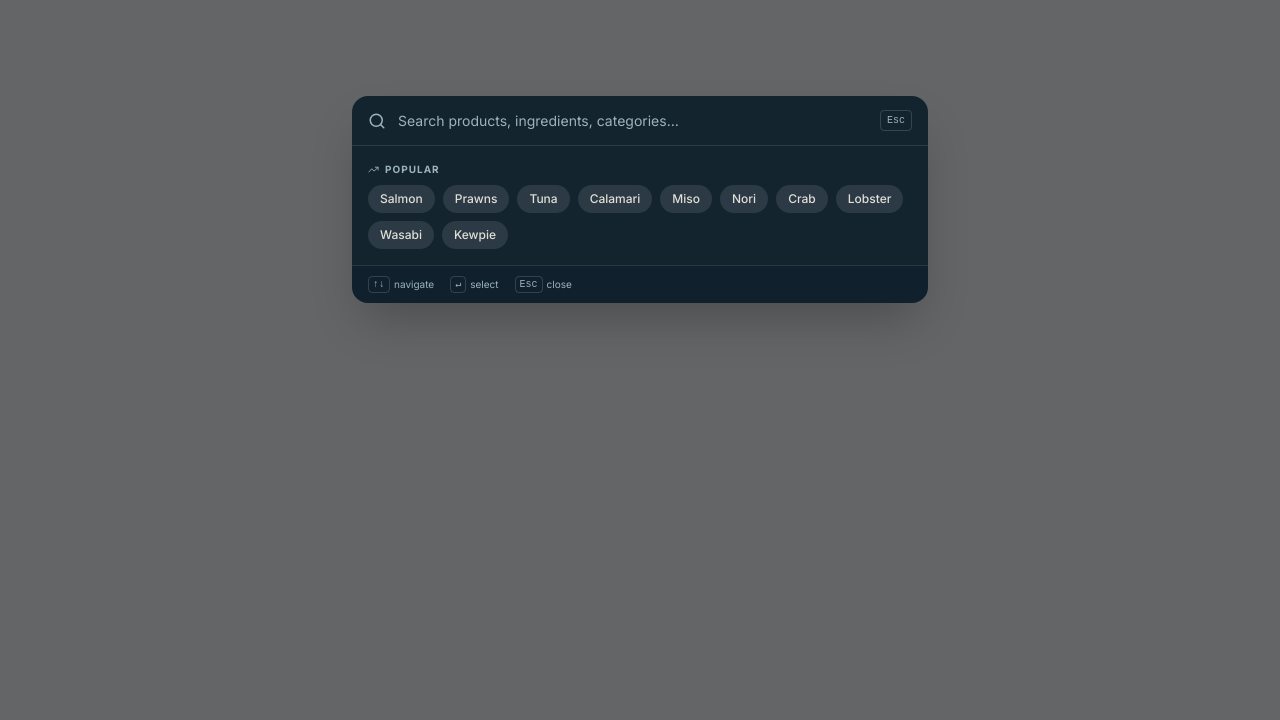
GlobalSearch › clears the query when the clear button is clicked
Type "sal" into the search field with placeholder "Search products, ingredients, categories…" at (633, 120), box [398,110,868,130]
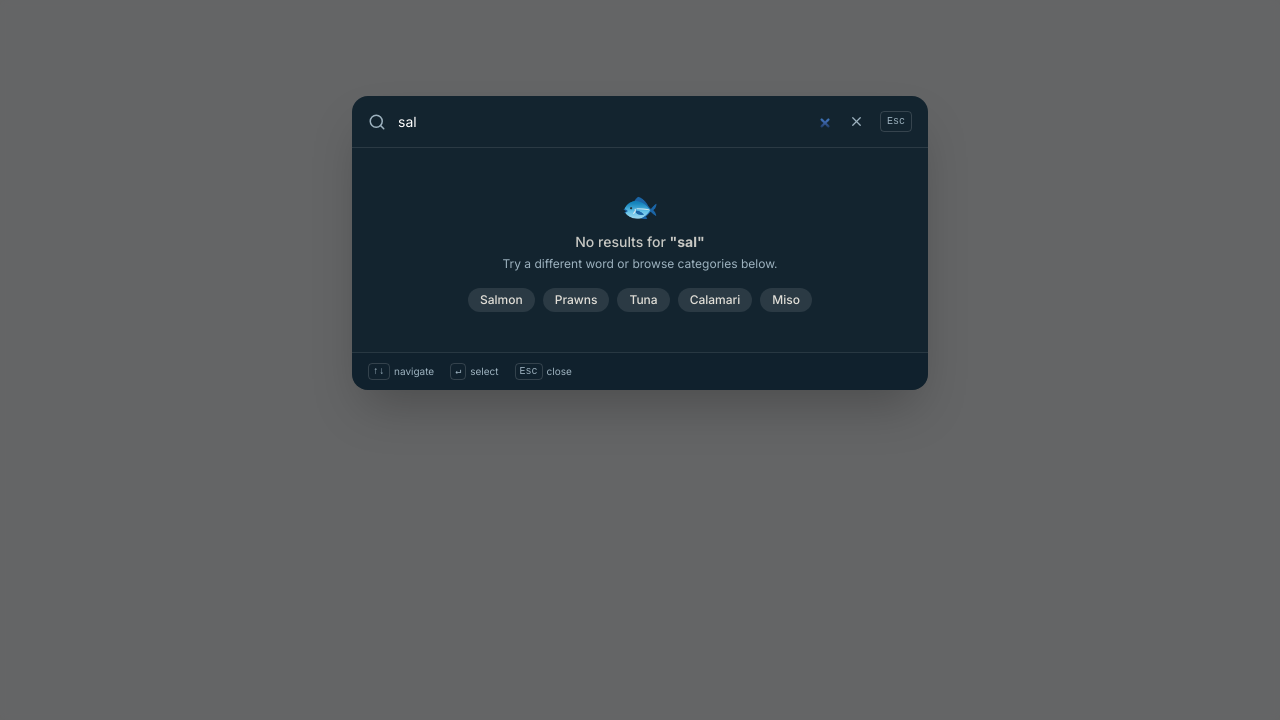
Click the button named "Clear" at (856, 122), box [845,110,868,133]
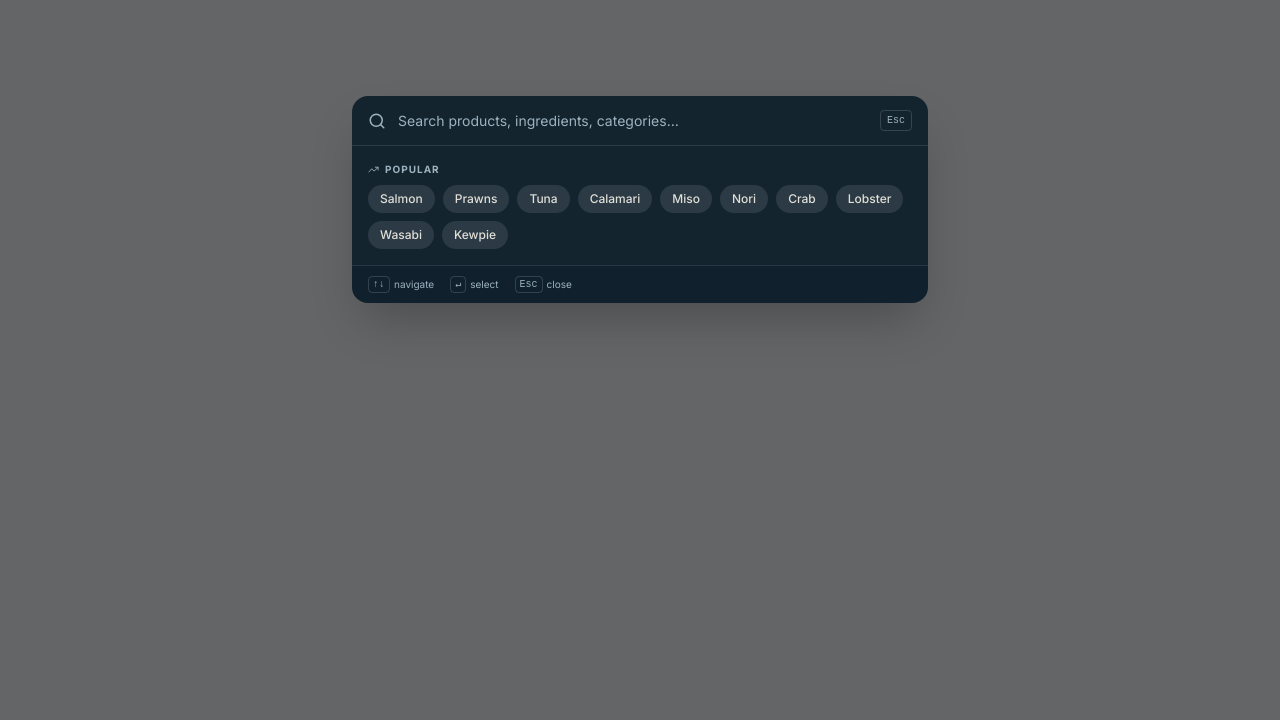
Now the search field with placeholder "Search products, ingredients, categories…" is empty, box [398,110,868,130]
